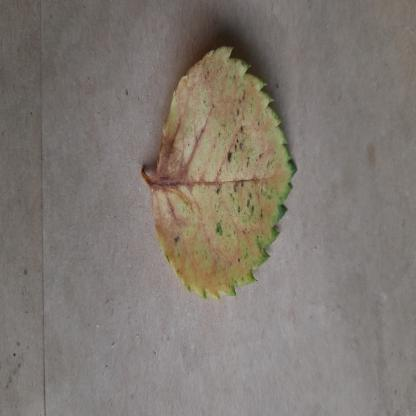black-spot: (152, 42, 297, 298)
